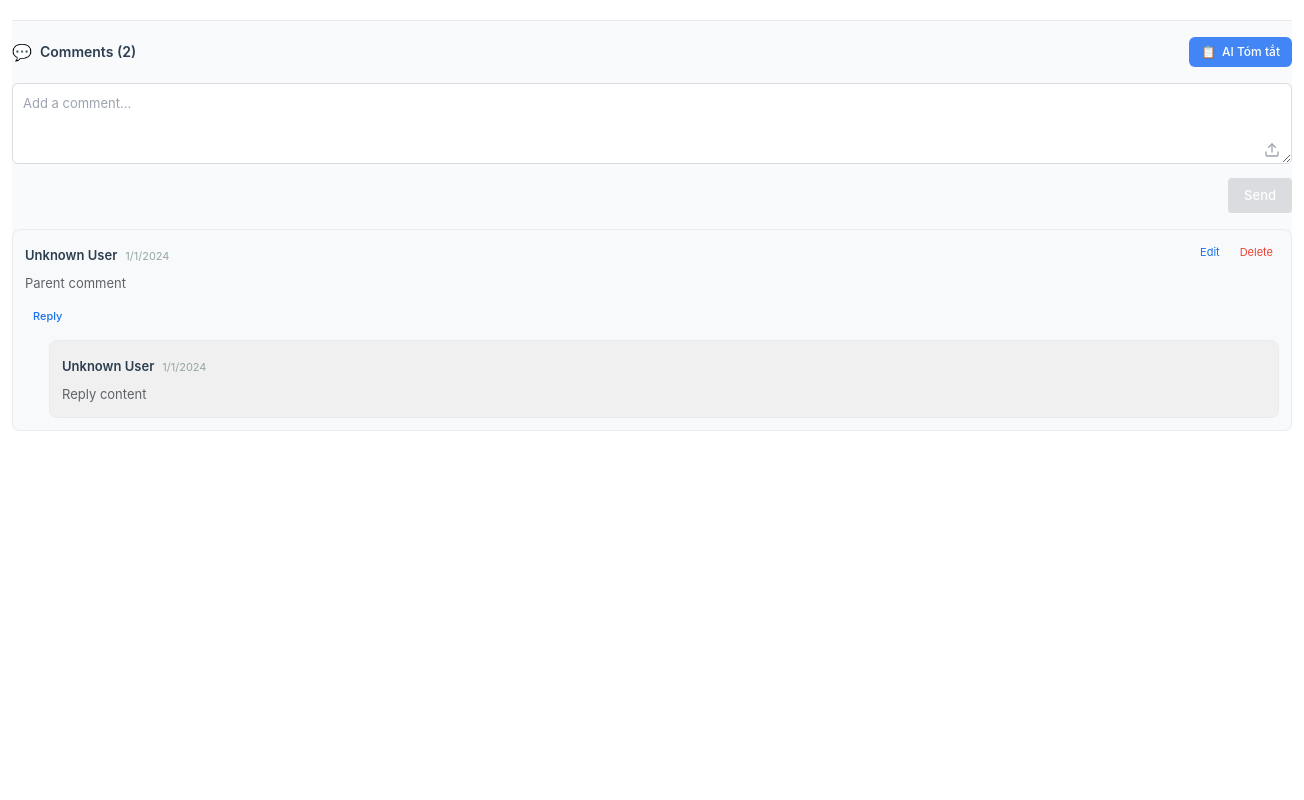
Test case: CommentSection › shows AI summary when summarize succeeds
What coordinates should you click on to do the following:
click the button "📋 AI Tóm tắt"
I would click on:
 (1240, 52)
Its box is [1189,37,1292,67].
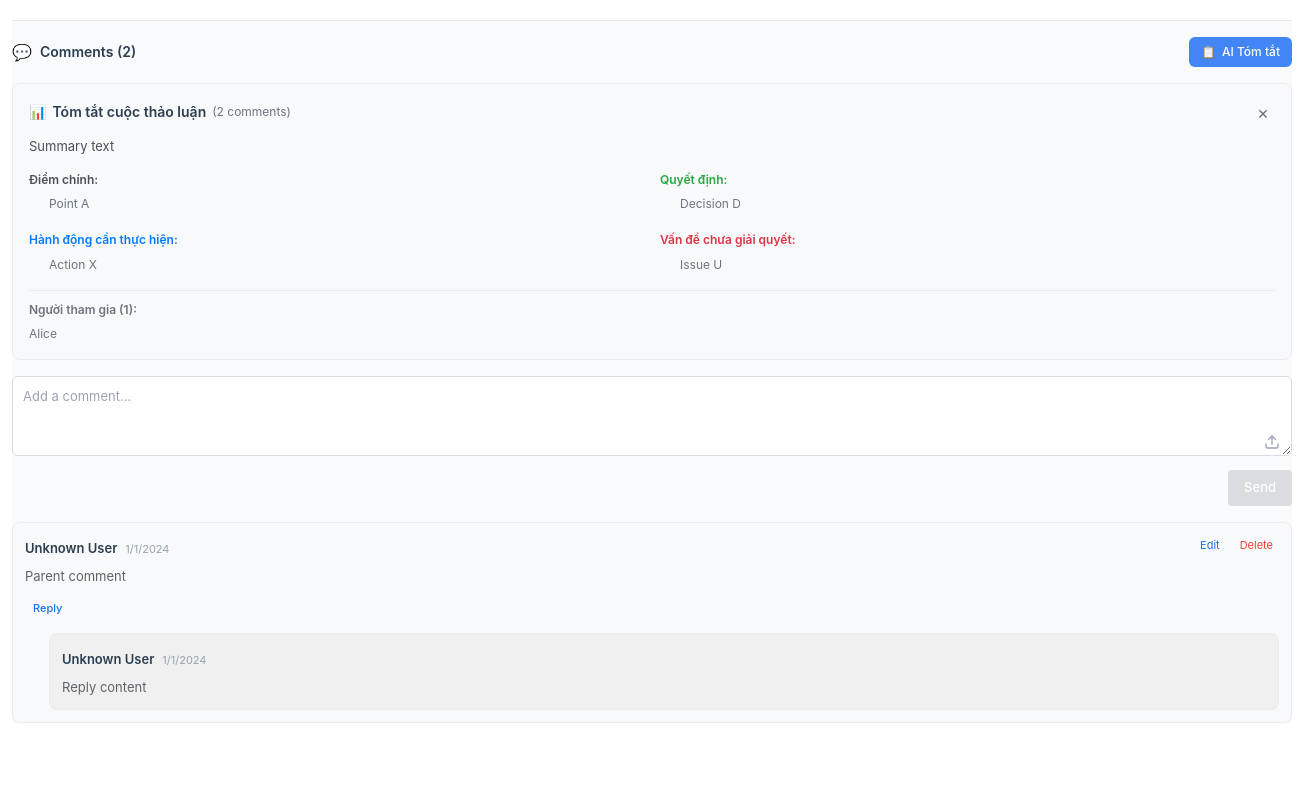
Check: the text "Summary text" is shown, box [29,138,114,154]
Check: the list item "Point A" is shown, box [49,196,89,211]
Check: the list item "Decision D" is shown, box [680,196,741,211]
